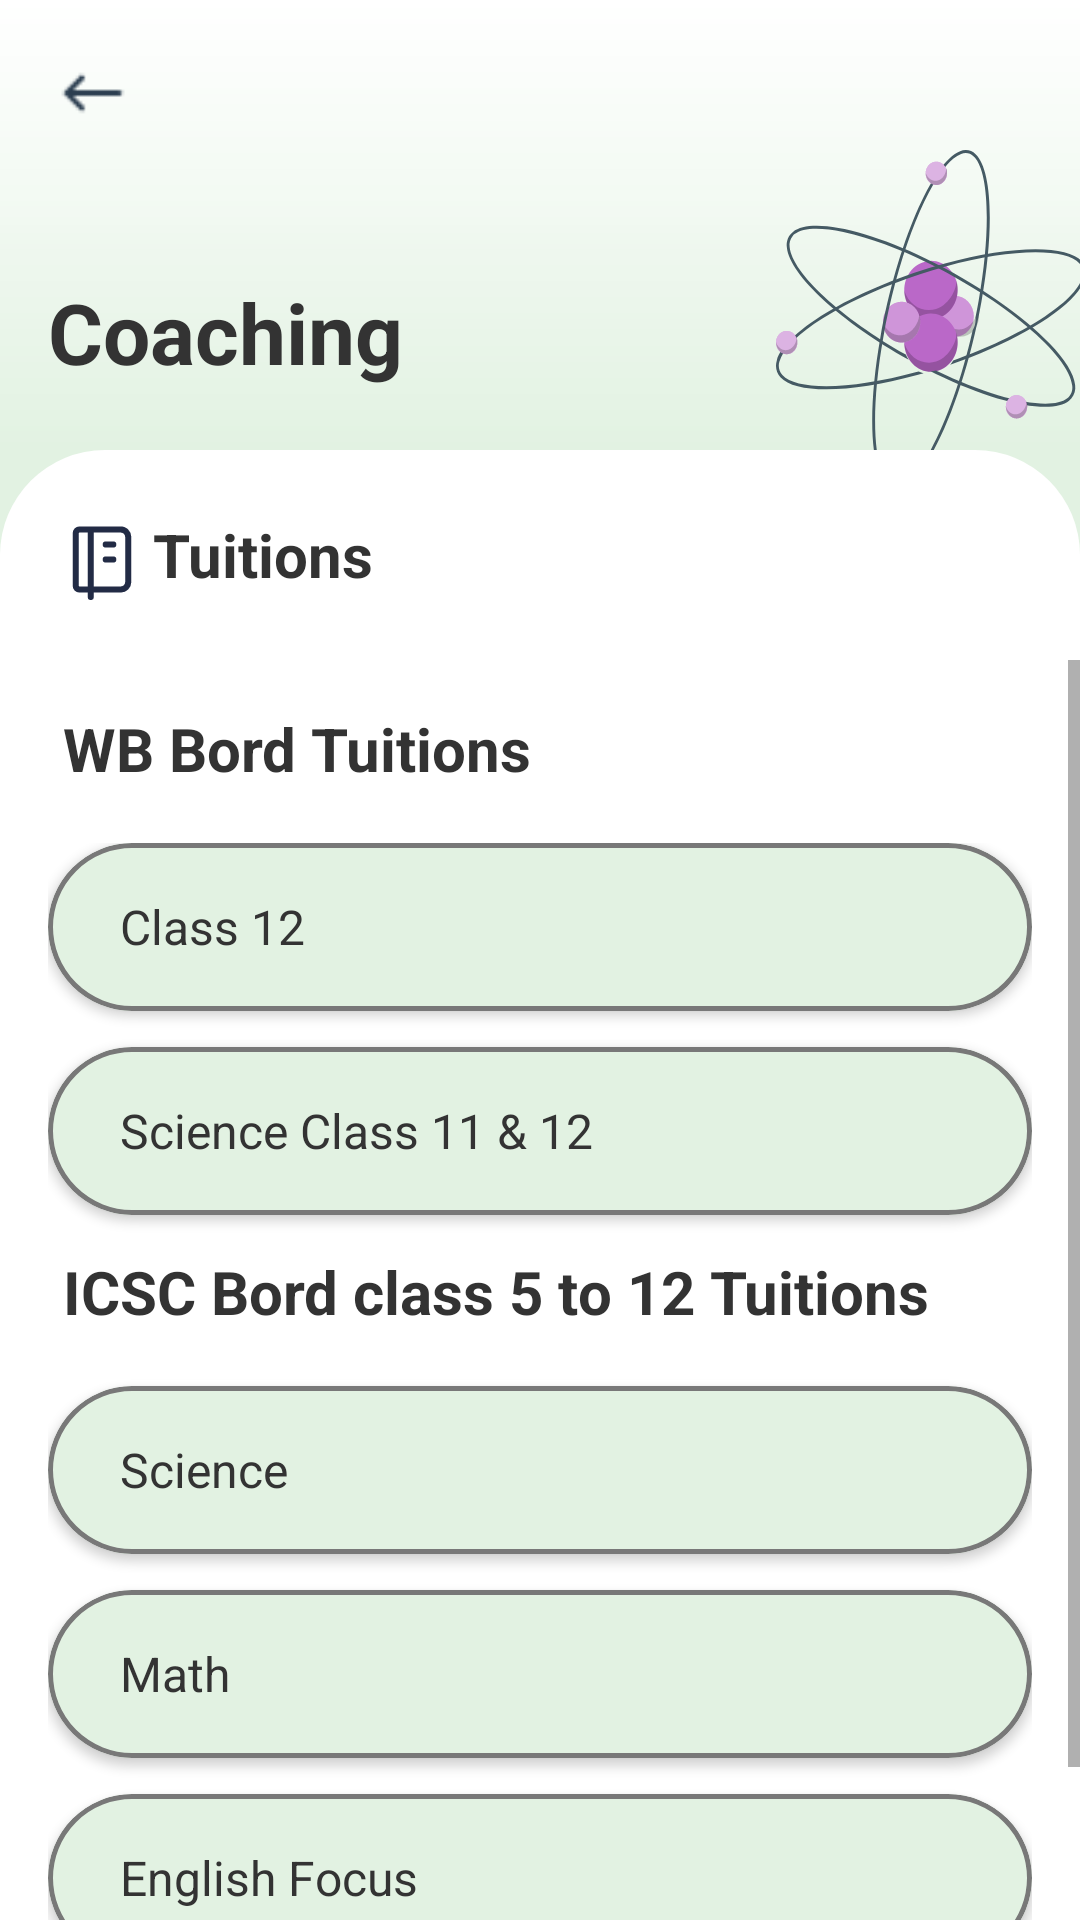

Named icons in this screenshot (1080 x 1920) and their centers, [x,y]:
Back button: [93,93]
course: [102,563]
